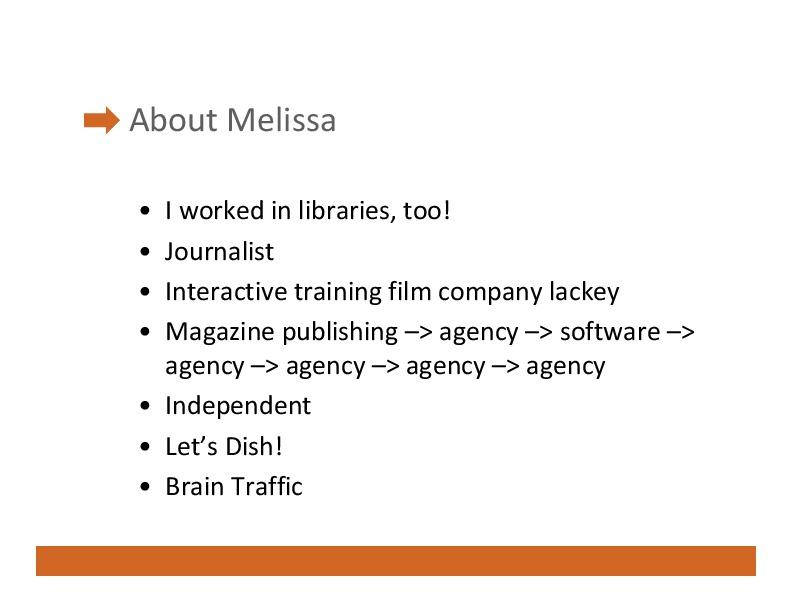paragraph: (130, 192, 727, 518)
title: (126, 96, 352, 144)
